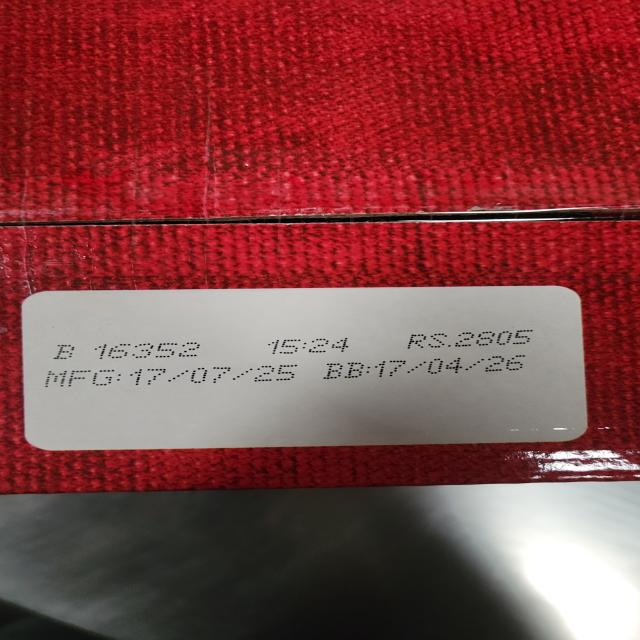BB: (320, 355, 526, 379)
Batch: (55, 342, 206, 361)
MFG: (45, 363, 299, 387)
RS: (406, 329, 536, 350)
TimeStamp: (269, 338, 355, 354)
